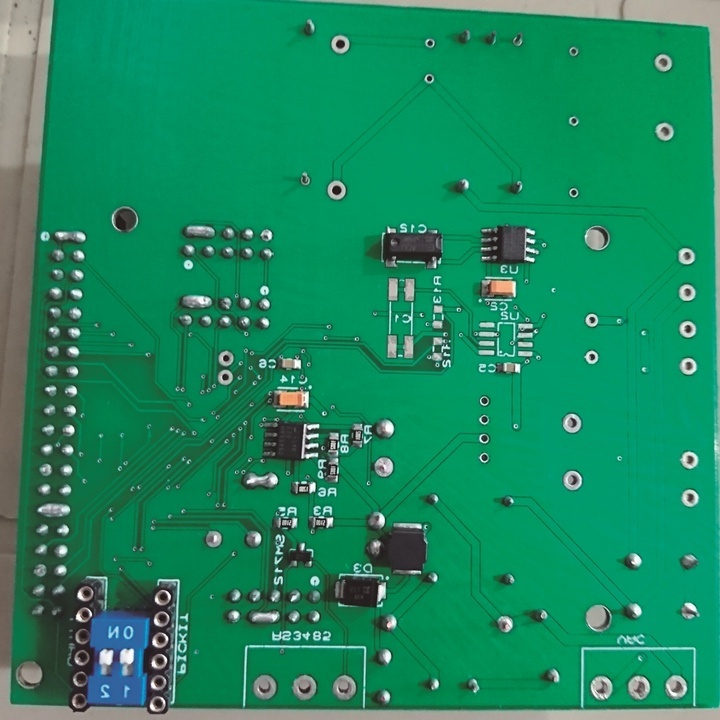F: (250, 673, 279, 702), (290, 672, 319, 701), (626, 672, 650, 702), (588, 672, 613, 700), (663, 673, 688, 700), (333, 675, 357, 701), (324, 178, 347, 203), (679, 601, 701, 626), (653, 50, 675, 75), (330, 35, 353, 58), (653, 120, 676, 143), (371, 456, 395, 478), (562, 412, 584, 435), (561, 468, 584, 490), (676, 246, 698, 267), (676, 282, 697, 303), (495, 613, 515, 635), (679, 450, 701, 470), (678, 318, 699, 338), (680, 357, 698, 378), (205, 529, 224, 547), (220, 348, 236, 369), (217, 369, 235, 387), (59, 421, 76, 440), (679, 487, 696, 506), (63, 382, 79, 400), (31, 561, 47, 578), (259, 227, 276, 243), (584, 313, 600, 329), (296, 171, 313, 186), (585, 349, 600, 365), (38, 461, 52, 478), (423, 35, 436, 53), (512, 31, 526, 47), (477, 449, 490, 466), (478, 430, 490, 447), (568, 185, 582, 198), (568, 115, 580, 128), (478, 394, 491, 406), (569, 46, 580, 60), (424, 72, 434, 86), (479, 413, 490, 425)
P: (239, 470, 281, 491), (182, 220, 218, 242), (245, 607, 281, 628), (36, 501, 73, 520), (52, 229, 88, 246), (179, 293, 210, 310)
